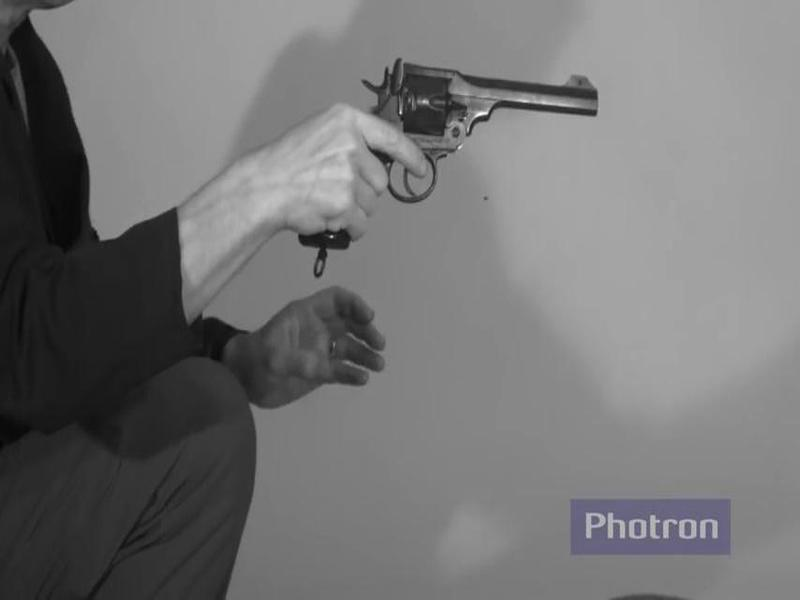Revolver: (295, 27, 615, 272)
